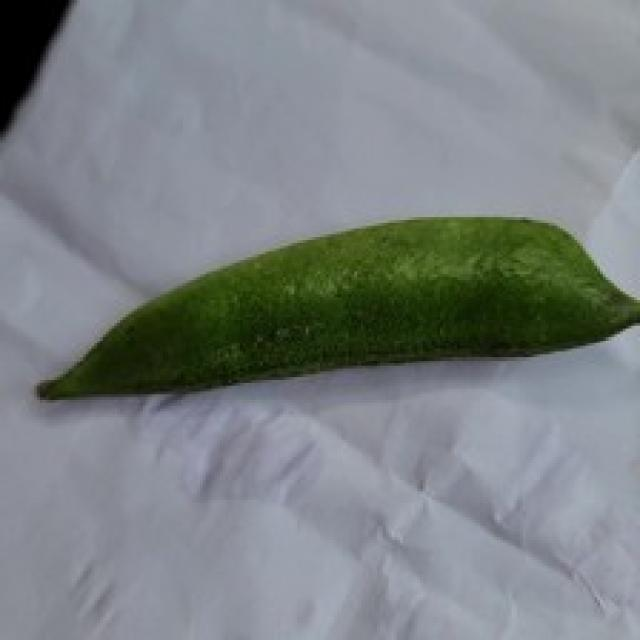Bean: (34, 211, 637, 400)
